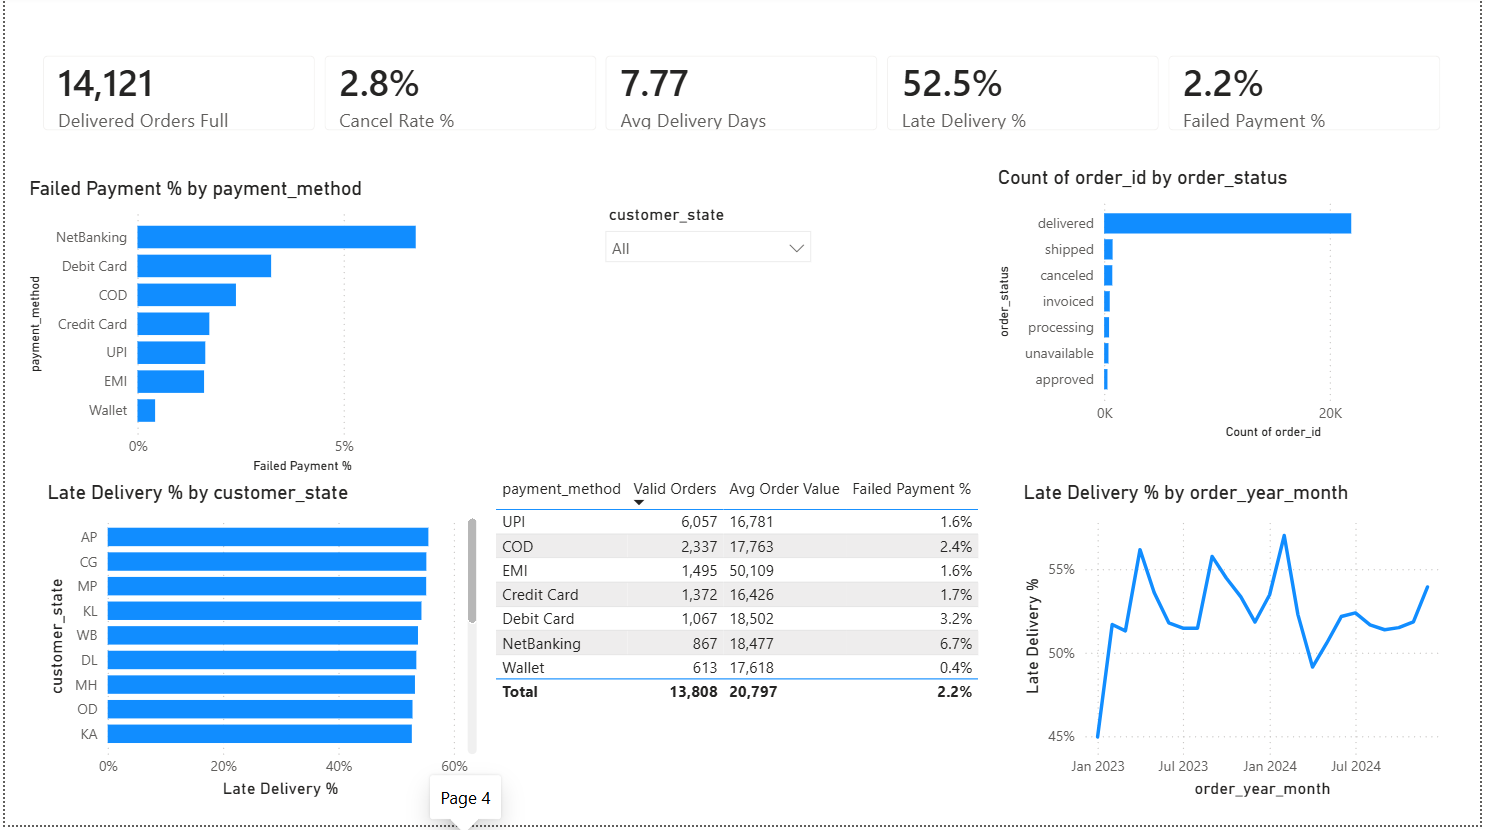

Layout of this report page (visuals, bound fields, positions):
{"tool":"powerbi","page":{"name":"Page 4","canvas":[1280,720],"ordinal":3},"visuals":[{"type":"clusteredBarChart","fields":{"Y":["customers.Late Delivery %"],"Category":["customers.customer_state"]},"box":[32,421.6,382.5,279.3],"z":0},{"type":"tableEx","fields":{"Values":["payments.payment_method","orders.Valid Orders","customers.Avg Order Value","customers.Failed Payment %"]},"box":[420.5,413.4,454.2,287.4],"z":1000},{"type":"lineChart","fields":{"Category":["orders.order_year_month"],"Y":["customers.Late Delivery %"]},"box":[878.9,421.6,382.5,279.3],"z":2000},{"type":"cardVisual","fields":{"Data":["orders.Delivered Orders Full","customers.Cancel Rate %","customers.Avg Delivery Days","customers.Late Delivery %","customers.Failed Payment %"]},"box":[15.9,35.5,1246.1,99.2],"z":3000},{"type":"slicer","fields":{"Values":["customers.customer_state"]},"box":[510.9,176.4,198.5,139.7],"z":4000},{"type":"clusteredBarChart","fields":{"Y":["customers.Failed Payment %"],"Category":["payments.payment_method"]},"box":[16,157.9,399.2,260.8],"z":6000},{"type":"clusteredBarChart","fields":{"Y":["CountNonNull(order_items.order_id)"],"Category":["orders.order_status"]},"box":[856.5,148.3,405.6,241.4],"z":7000}]}

Visuals, with their boxes in screenshot pixels (x1, y1, x2, y2), scaled from the page's 1280x720 canvas onto the 1485x830 screenshot:
clusteredBarChart - customers.Late Delivery % x customers.customer_state: (left=37, top=486, right=481, bottom=808)
tableEx - payments.payment_method x orders.Valid Orders: (left=488, top=477, right=1015, bottom=808)
lineChart - orders.order_year_month x customers.Late Delivery %: (left=1020, top=486, right=1463, bottom=808)
cardVisual - orders.Delivered Orders Full x customers.Cancel Rate %: (left=18, top=41, right=1464, bottom=155)
slicer - customers.customer_state: (left=593, top=203, right=823, bottom=364)
clusteredBarChart - customers.Failed Payment % x payments.payment_method: (left=19, top=182, right=482, bottom=483)
clusteredBarChart - CountNonNull(order_items.order_id) x orders.order_status: (left=994, top=171, right=1464, bottom=449)
